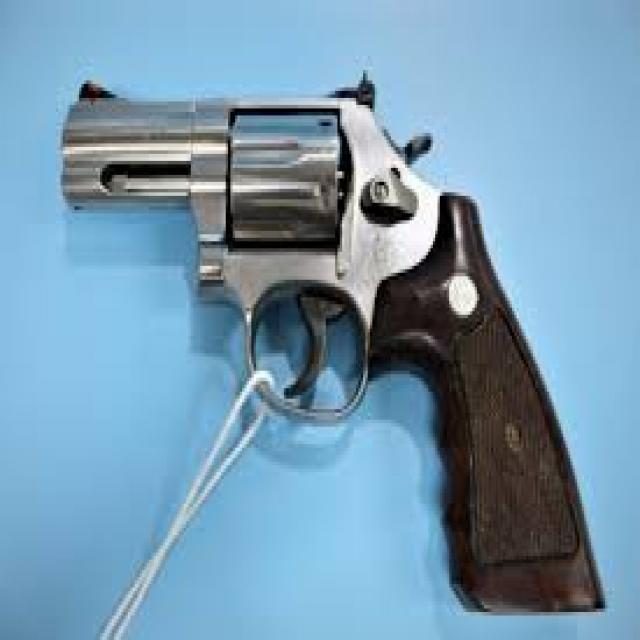semi automatic: (49, 61, 615, 626)
